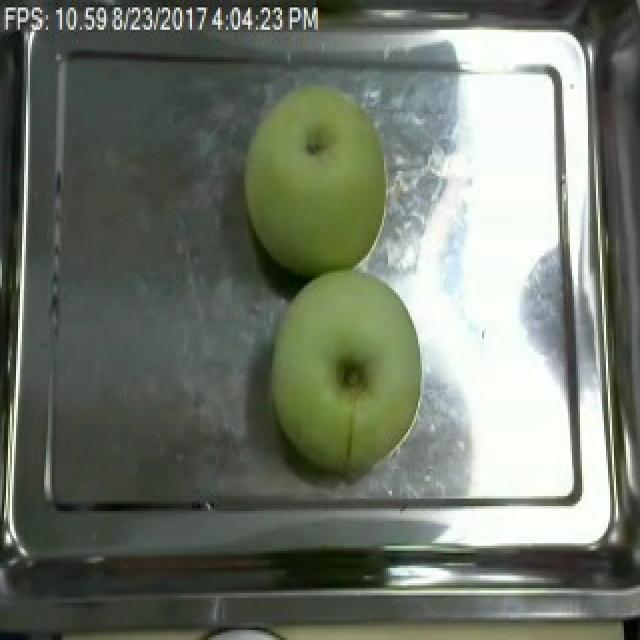50-_ripeness: (238, 78, 400, 273), (271, 270, 425, 472)
